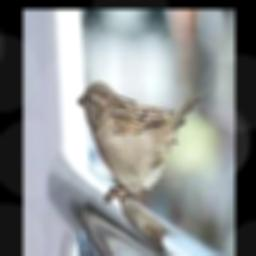Sparrow: (77, 82, 205, 203)
